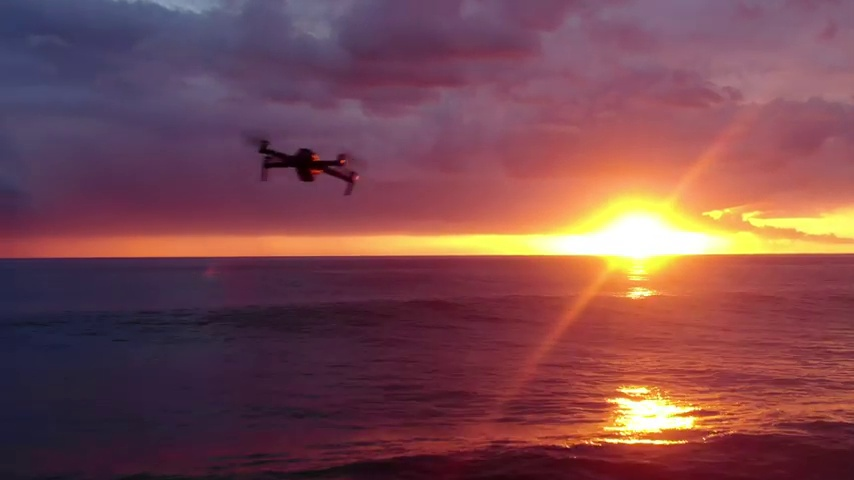drone: (254, 136, 359, 200)
